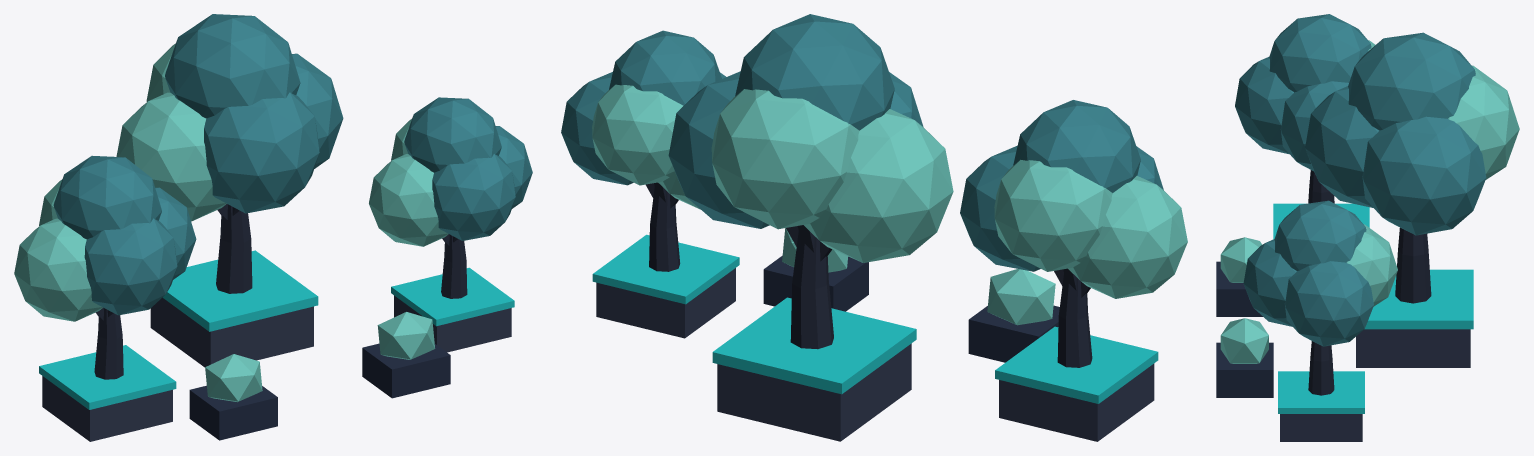
File: Neon_CyberGarden_Standard.glb
3 views of the same model, side by side, from view 1: azimuth 30°, elevation 25°; view 2: azimuth 150°, elevation 25°; view 3: azimuth 270°, elevation 25° (orthographic). The views are drawn at different scales.
Visible parts, largest first — view 1: Neon_CyberGarden_Standard; view 2: Neon_CyberGarden_Standard; view 3: Neon_CyberGarden_Standard.
Part boxes in pixels (x1,y1,x2,y2): Neon_CyberGarden_Standard: (14,14,532,441); Neon_CyberGarden_Standard: (561,14,1187,441); Neon_CyberGarden_Standard: (1216,14,1519,441).
Size of the model in its own units: 7.37 by 4.41 by 3.97.
